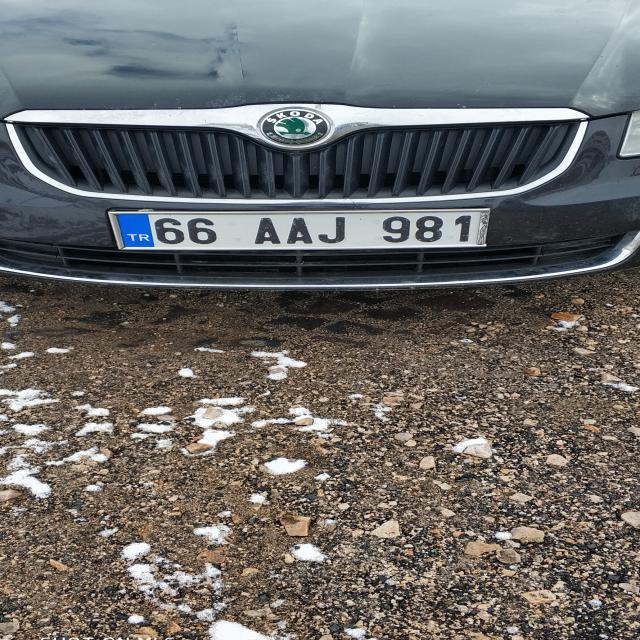plate: (113, 210, 487, 250)
